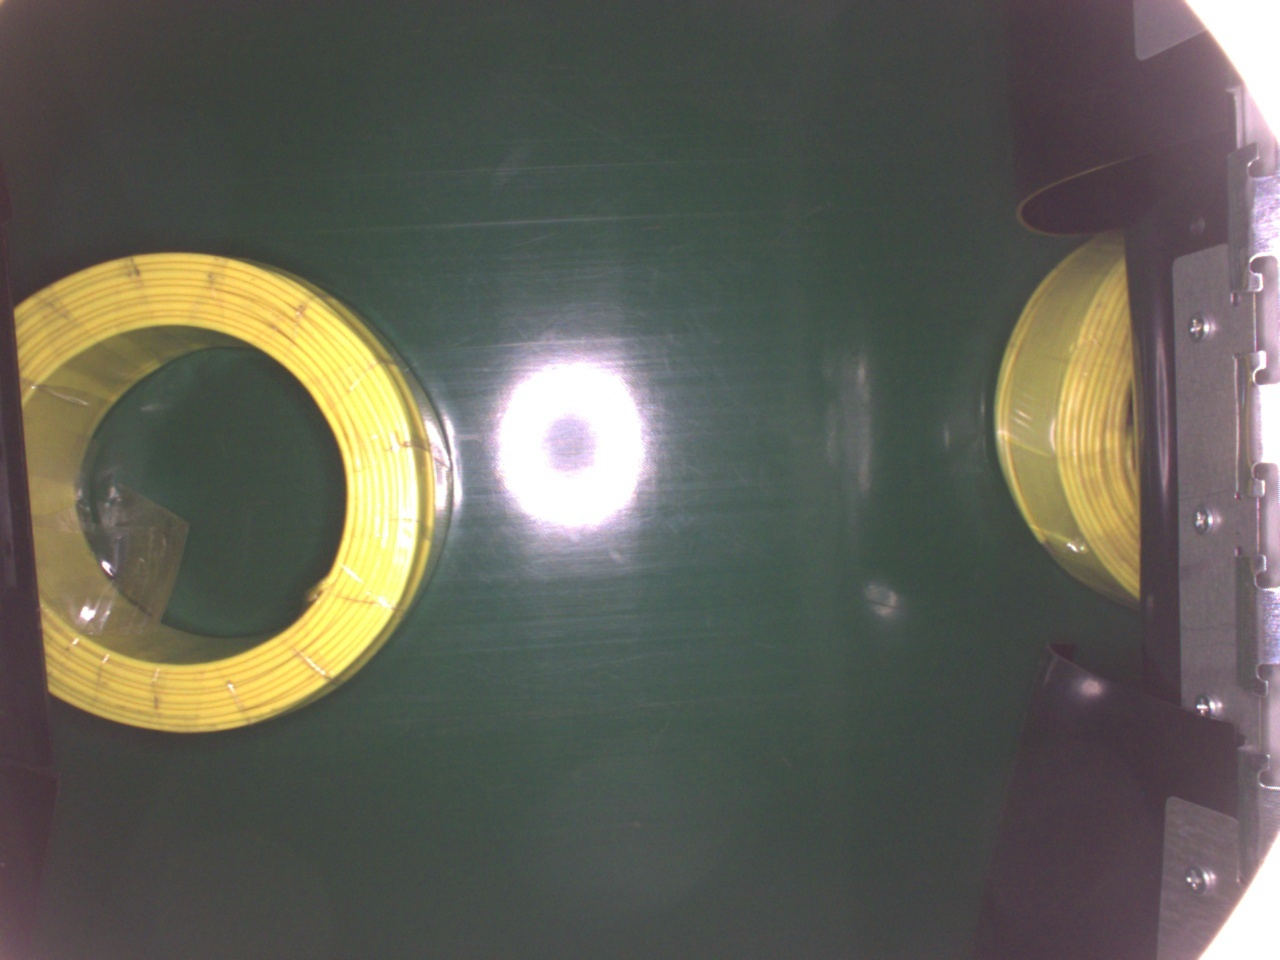yellow: (13, 250, 451, 741), (990, 225, 1147, 613)
